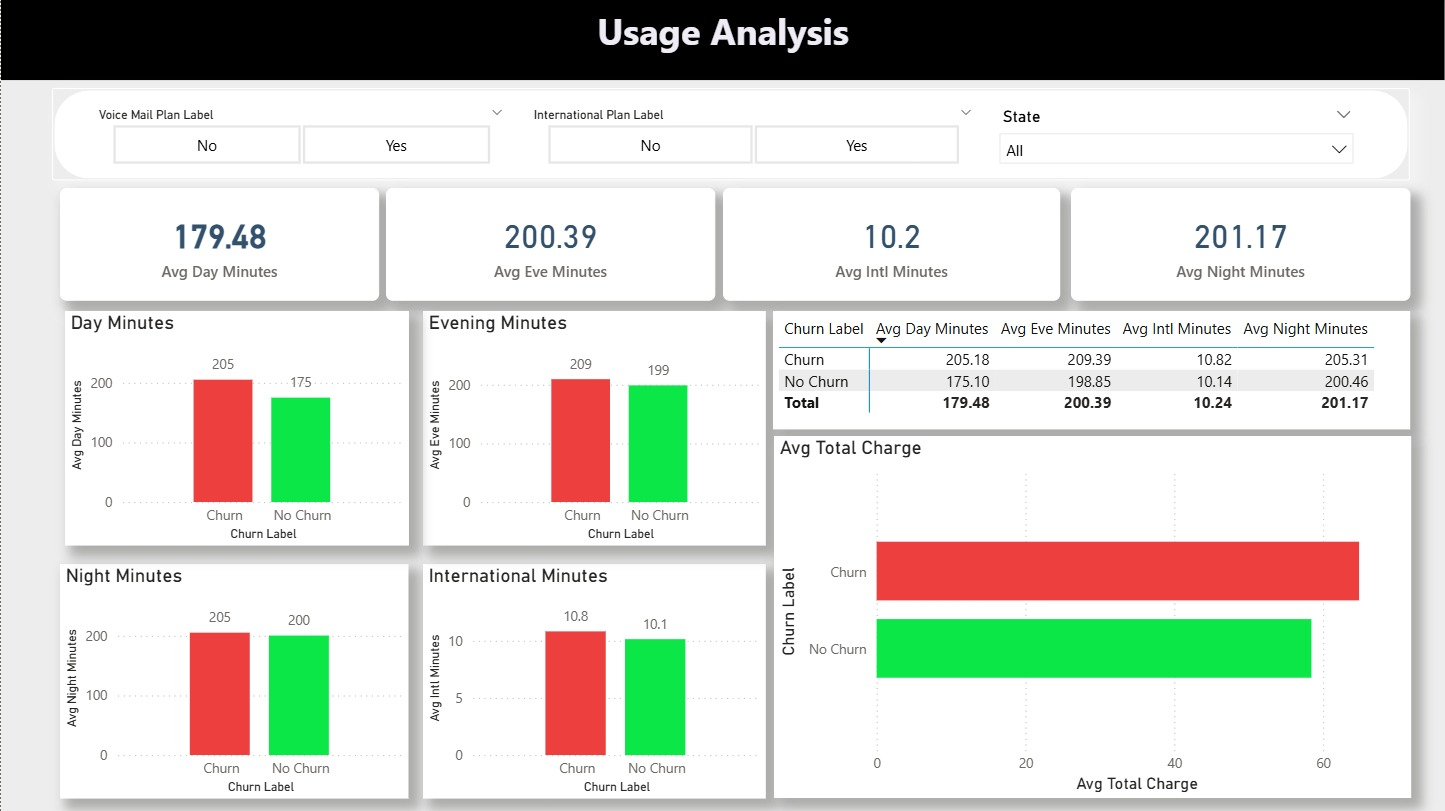

This screenshot's page, from the dashboard's own definition file:
{"tool":"powerbi","page":{"name":"Usage Analysis","canvas":[1280,720],"ordinal":1},"visuals":[{"type":"card","fields":{"Values":["churn-bigml-80.Avg Day Minutes"]},"box":[52.3,166.7,282.9,100.2],"z":0},{"type":"card","fields":{"Values":["churn-bigml-80.Avg Eve Minutes"]},"box":[341.4,166.7,291.7,100.2],"z":1000},{"type":"card","fields":{"Values":["churn-bigml-80.Avg Intl Minutes"]},"box":[640.2,166.7,298.8,100.2],"z":2000},{"type":"card","fields":{"Values":["churn-bigml-80.Avg Night Minutes"]},"box":[948.8,166.7,300.6,100.2],"z":3000},{"type":"textbox","box":[0,0,1280.4,70.9],"z":4000},{"type":"shape","box":[45.2,78,1204.1,82.5],"z":6000},{"type":"slicer","fields":{"Values":["churn-bigml-80.Voice Mail Plan Label"]},"box":[72.7,85.1,385.7,68.3],"z":7000},{"type":"slicer","fields":{"Values":["churn-bigml-80.International Plan Label"]},"box":[458.4,85.1,415.9,68.3],"z":8000},{"type":"slicer","fields":{"Values":["churn-bigml-80.State"]},"box":[874.3,85.1,336.1,68.3],"z":13000},{"type":"clusteredColumnChart","title":"Night Minutes","fields":{"Category":["churn-bigml-80.Churn Label"],"Y":["churn-bigml-80.Avg Night Minutes"]},"box":[52.3,500.1,309.5,208.4],"z":13001},{"type":"clusteredColumnChart","title":"International Minutes","fields":{"Category":["churn-bigml-80.Churn Label"],"Y":["churn-bigml-80.Avg Intl Minutes"]},"box":[374.2,500.1,304.1,208.4],"z":13002},{"type":"clusteredColumnChart","title":"Evening Minutes","fields":{"Category":["churn-bigml-80.Churn Label"],"Y":["churn-bigml-80.Avg Eve Minutes"]},"box":[374.2,275.8,304.1,208.4],"z":13003},{"type":"clusteredColumnChart","title":"Day Minutes","fields":{"Category":["churn-bigml-80.Churn Label"],"Y":["churn-bigml-80.Avg Day Minutes"]},"box":[56.7,275.8,305,208.4],"z":13004},{"type":"pivotTable","fields":{"Rows":["churn-bigml-80.Churn Label"],"Values":["churn-bigml-80.Avg Day Minutes","churn-bigml-80.Avg Eve Minutes","churn-bigml-80.Avg Intl Minutes","churn-bigml-80.Avg Night Minutes"]},"box":[684.5,275.8,564.8,104.6],"z":13005},{"type":"clusteredBarChart","title":"Avg Total Charge ","fields":{"Y":["churn-bigml-80.Avg Total Charge"],"Category":["churn-bigml-80.Churn Label"]},"box":[685.4,386.6,564.8,321],"z":13006}]}

Visuals, with their boxes in screenshot pixels (x1, y1, x2, y2), scaled from the page's 1280x720 canvas onto the 1445x811 screenshot:
card - churn-bigml-80.Avg Day Minutes: x1=59, y1=188, x2=378, y2=301
card - churn-bigml-80.Avg Eve Minutes: x1=385, y1=188, x2=715, y2=301
card - churn-bigml-80.Avg Intl Minutes: x1=723, y1=188, x2=1060, y2=301
card - churn-bigml-80.Avg Night Minutes: x1=1071, y1=188, x2=1410, y2=301
textbox: x1=0, y1=0, x2=1444, y2=80
shape: x1=51, y1=88, x2=1410, y2=181
slicer - churn-bigml-80.Voice Mail Plan Label: x1=82, y1=96, x2=517, y2=173
slicer - churn-bigml-80.International Plan Label: x1=517, y1=96, x2=987, y2=173
slicer - churn-bigml-80.State: x1=987, y1=96, x2=1366, y2=173
"Night Minutes" clusteredColumnChart: x1=59, y1=563, x2=408, y2=798
"International Minutes" clusteredColumnChart: x1=422, y1=563, x2=766, y2=798
"Evening Minutes" clusteredColumnChart: x1=422, y1=311, x2=766, y2=545
"Day Minutes" clusteredColumnChart: x1=64, y1=311, x2=408, y2=545
pivotTable - churn-bigml-80.Churn Label x churn-bigml-80.Avg Day Minutes: x1=773, y1=311, x2=1410, y2=428
"Avg Total Charge " clusteredBarChart: x1=774, y1=435, x2=1411, y2=797
